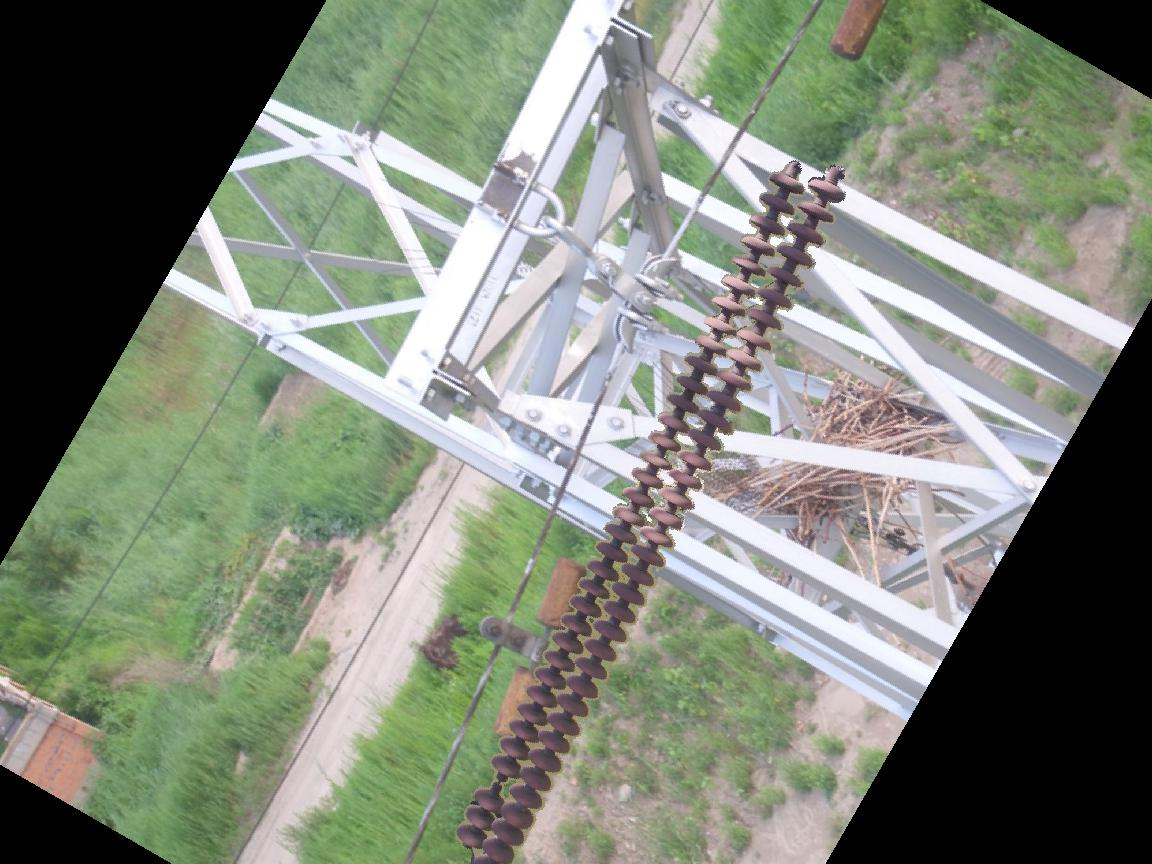insulator: (449, 164, 852, 864)
insulator_stringdrop: (473, 753, 524, 814)
